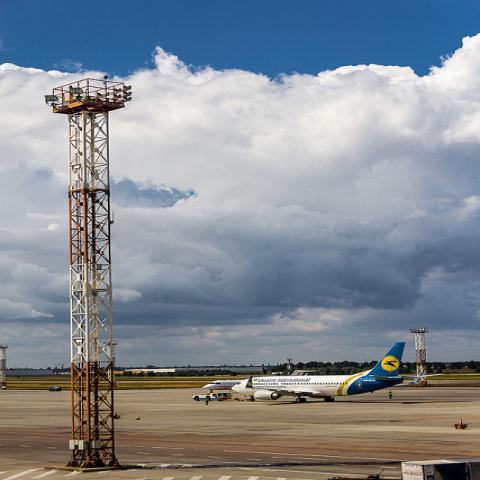truck: (192, 393, 228, 401)
